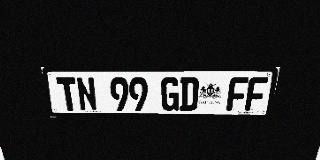9: (109, 77, 130, 111), (129, 77, 148, 111)
D: (179, 77, 199, 111)
F: (244, 77, 268, 111), (226, 77, 249, 111)
G: (161, 77, 180, 111)
N: (75, 77, 98, 111)
T: (56, 77, 79, 111)
